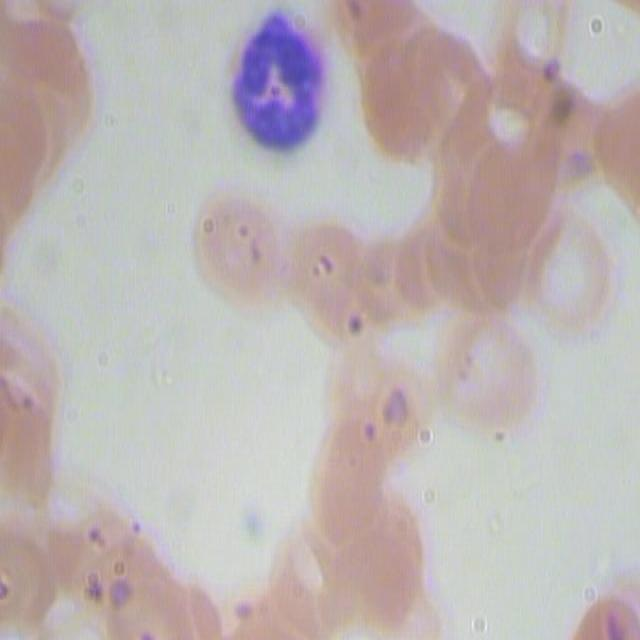RBC: (344, 3, 486, 165), (0, 0, 97, 230), (327, 299, 438, 463), (501, 195, 620, 345), (449, 51, 568, 193), (422, 310, 542, 438), (0, 294, 64, 501), (470, 1, 586, 103), (289, 204, 368, 340), (383, 215, 488, 316), (194, 186, 282, 304)
WBC: (210, 10, 339, 150)
